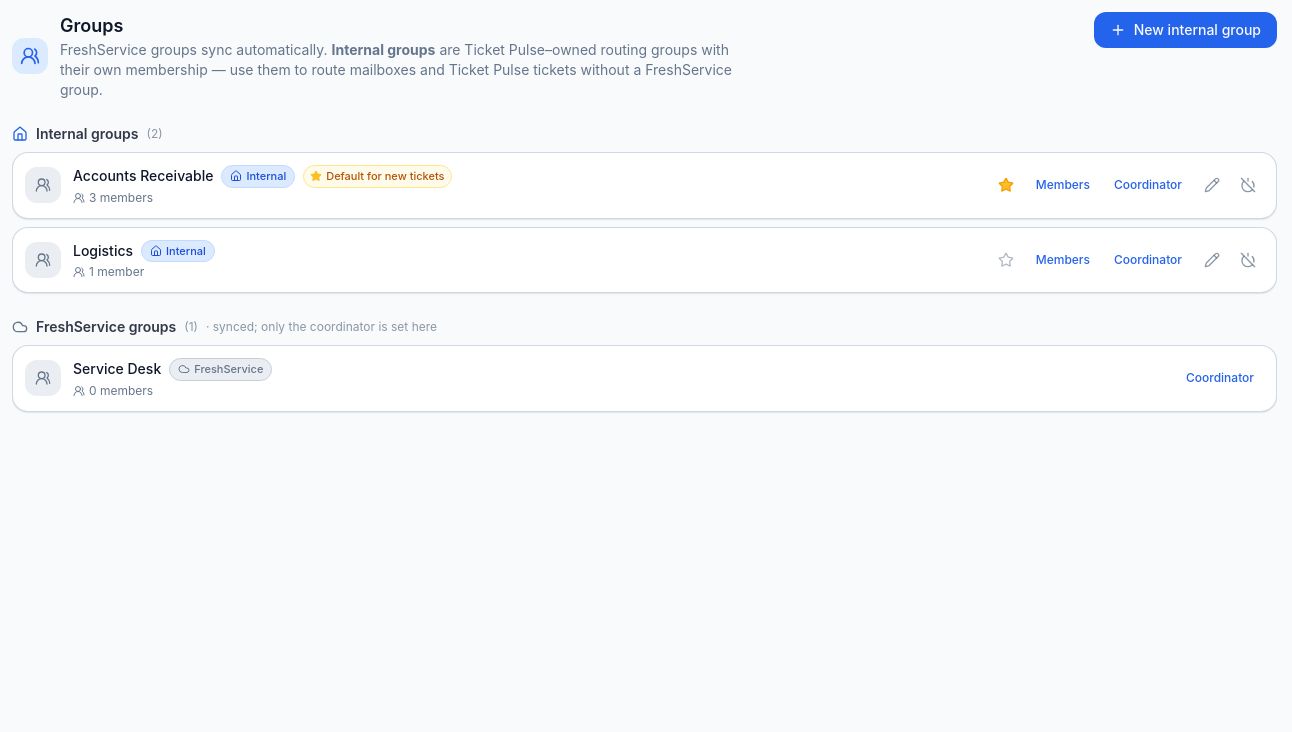
Test: GroupsPanel default group star (QA 08-06 #1) › clicking the filled star clears the default (the "No default" state)
Expected: the text "Default for new tickets" is shown, [303,165,452,188]
Click the button named "Clear Accounts Receivable as default group" at (1006, 185), box [990,169,1022,201]
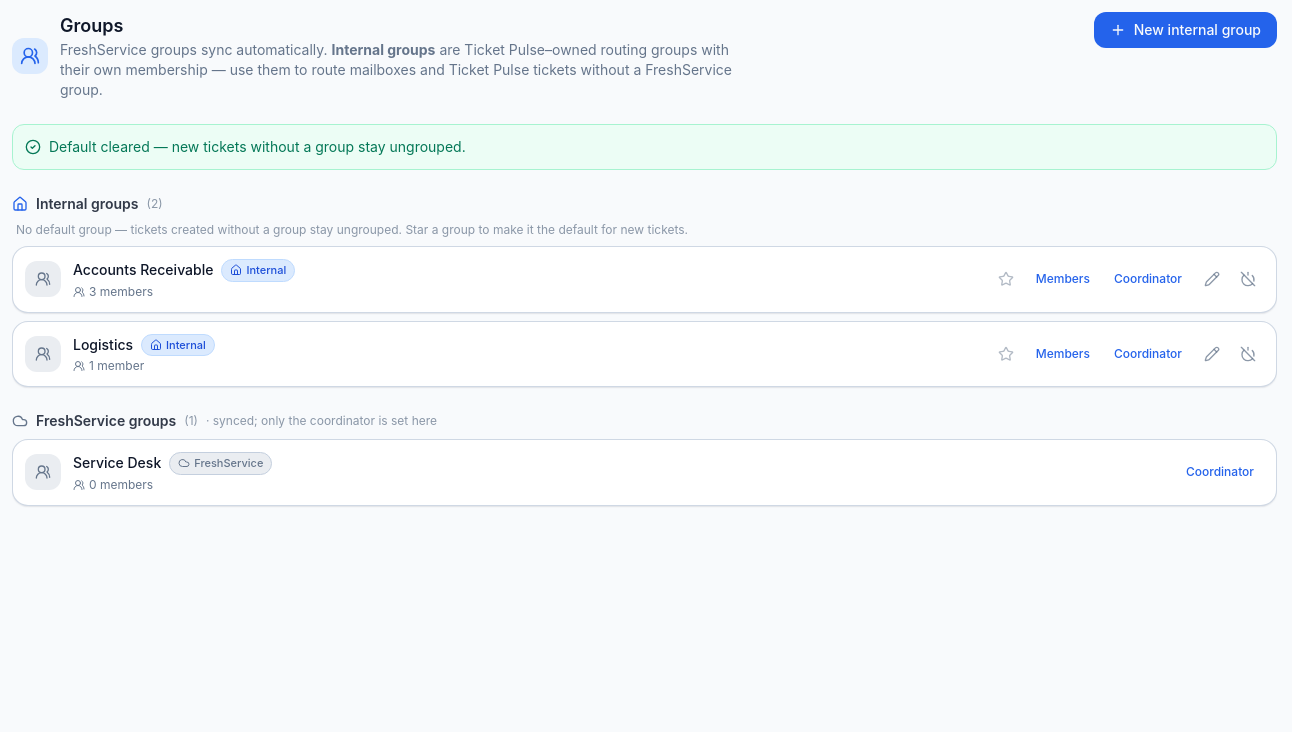
Result: the text with test id "no-default-group-hint" is shown at [16,222,688,237]
